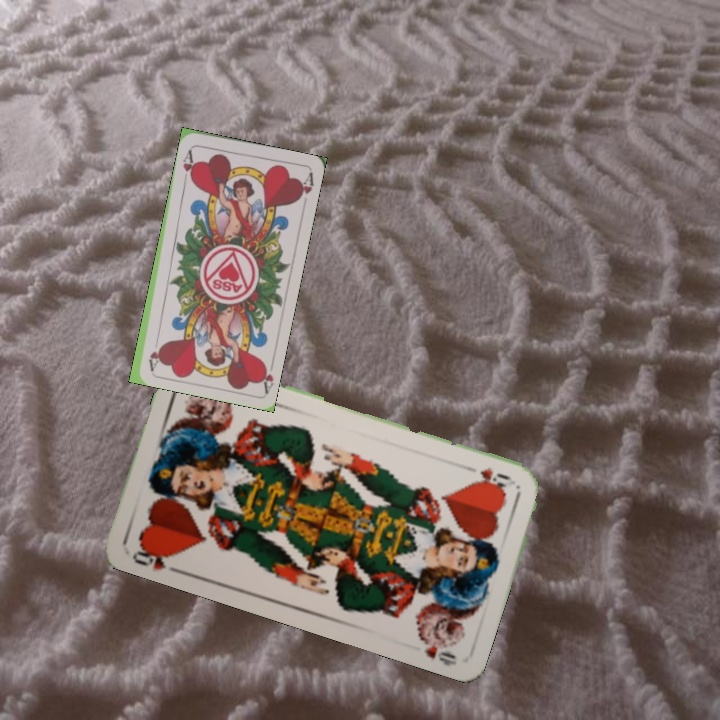HA: (255, 354, 277, 394), (179, 144, 198, 185)
HO: (128, 539, 184, 577), (460, 461, 512, 491)
